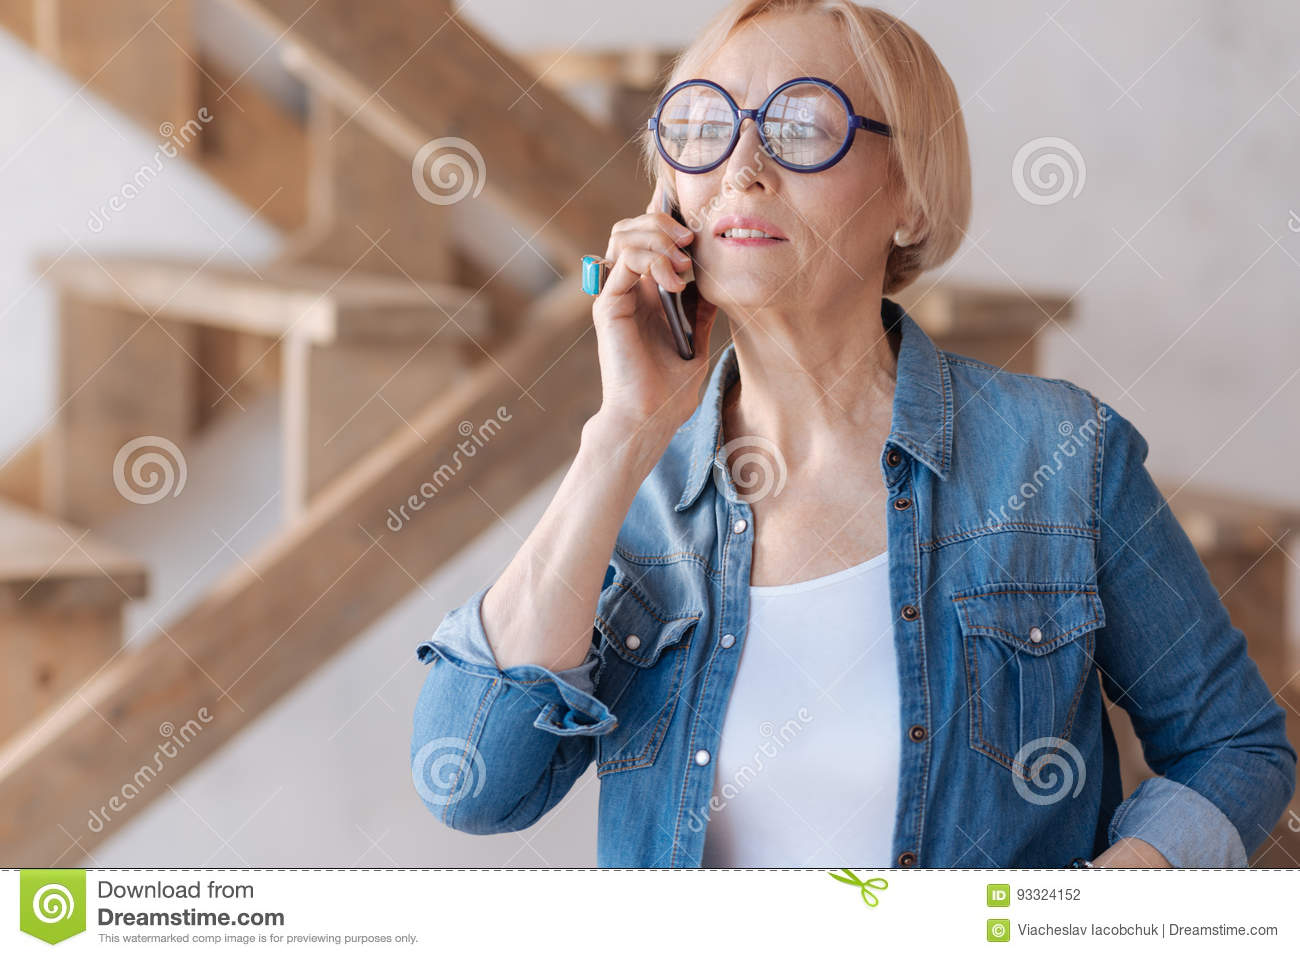phone: (646, 158, 705, 368)
talk: (587, 79, 859, 480)
